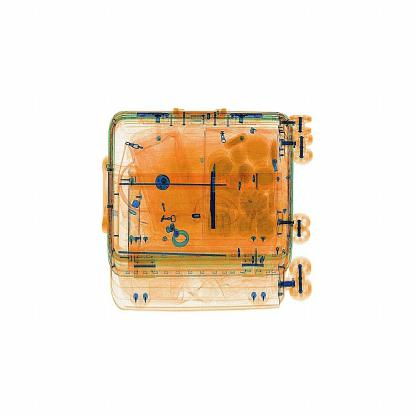pliers: (210, 163, 221, 233)
